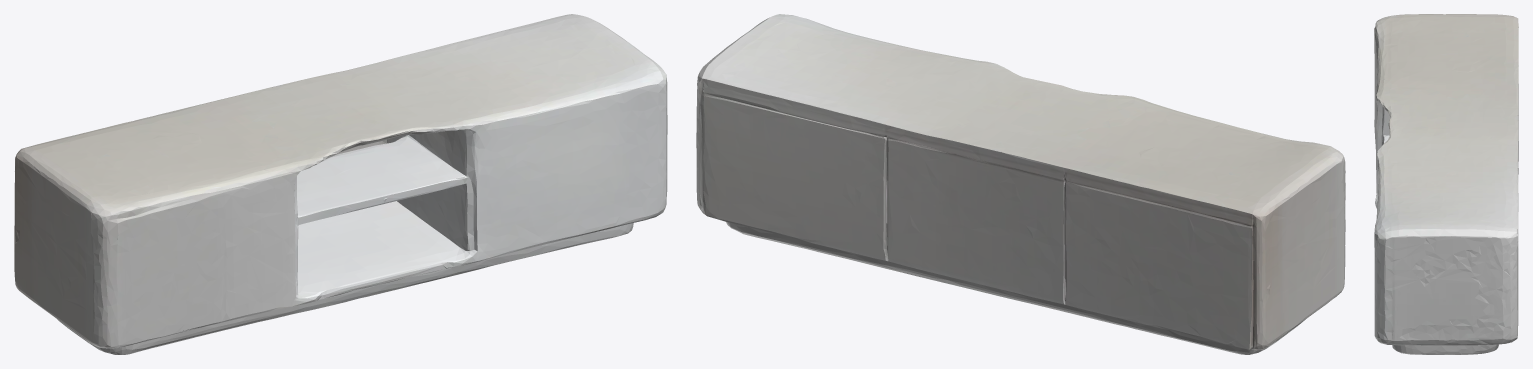
The model's file is ast_fa4fe463a624.glb.
The picture shows the model from 3 angles, left to right: view 1: azimuth 30°, elevation 25°; view 2: azimuth 150°, elevation 25°; view 3: azimuth 270°, elevation 25°; orthographic projection. The views are drawn at different scales.
Visible parts, largest first — view 1: geometry_0; view 2: geometry_0; view 3: geometry_0.
Boxes of the visible parts, x1,y1,x2,y2 form: geometry_0: (14,14,667,354); geometry_0: (696,14,1345,354); geometry_0: (1374,14,1518,354).
Bounding box in the file's own units: 1 × 0.2786 × 0.274.
1 material, 1 textured.
